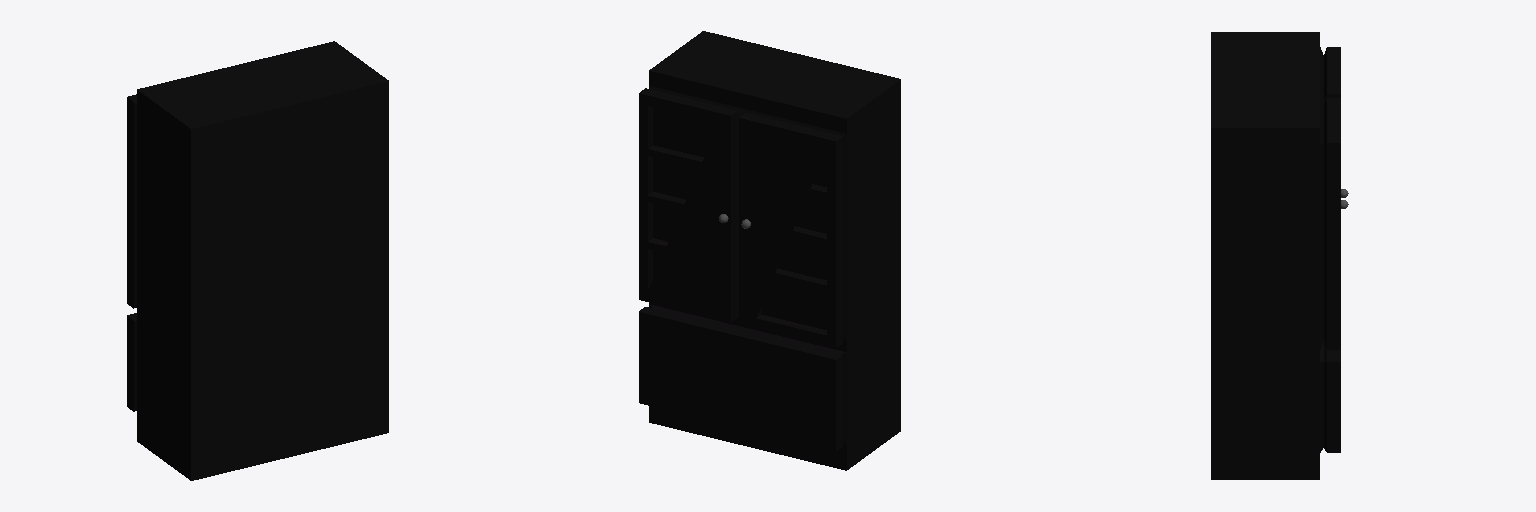
File: BSC_Wardrobe_closet_low_poly.obj
The picture shows the model from 3 angles: view 1: azimuth 30°, elevation 25°; view 2: azimuth 150°, elevation 25°; view 3: azimuth 270°, elevation 25°; orthographic projection.
Visible parts, largest first — view 1: BSC_Wardrobe_closet_low_poly; view 2: BSC_Wardrobe_closet_low_poly; view 3: BSC_Wardrobe_closet_low_poly.
Part boxes in pixels (left/top/right/bottom): BSC_Wardrobe_closet_low_poly: left=127, top=41, right=388, bottom=480; BSC_Wardrobe_closet_low_poly: left=639, top=31, right=900, bottom=470; BSC_Wardrobe_closet_low_poly: left=1211, top=32, right=1348, bottom=479.
Bounding box in the file's own units: 1 × 1.7 × 0.6.